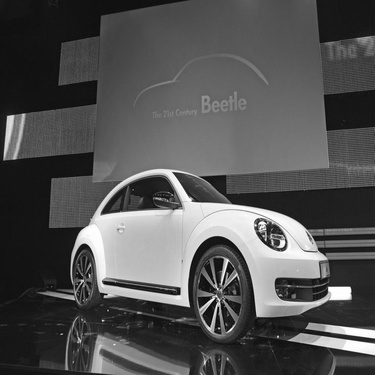car: (60, 155, 339, 355)
